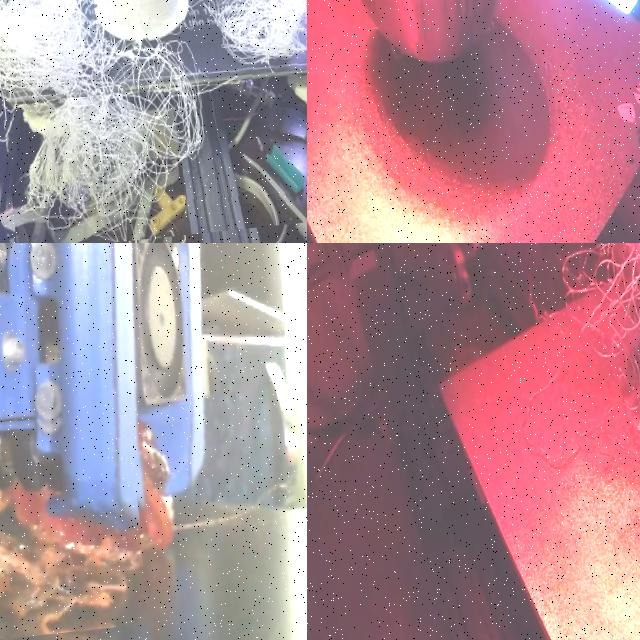spaghetti: (0, 522, 143, 634), (562, 243, 640, 433)
